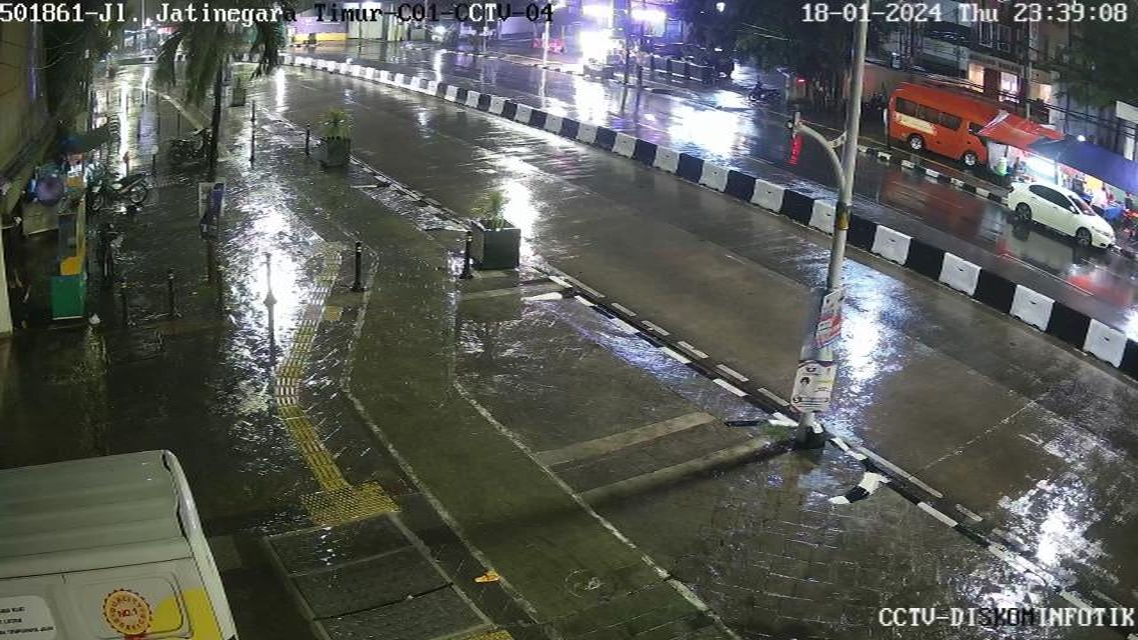Gerobak: (48, 190, 114, 351)
